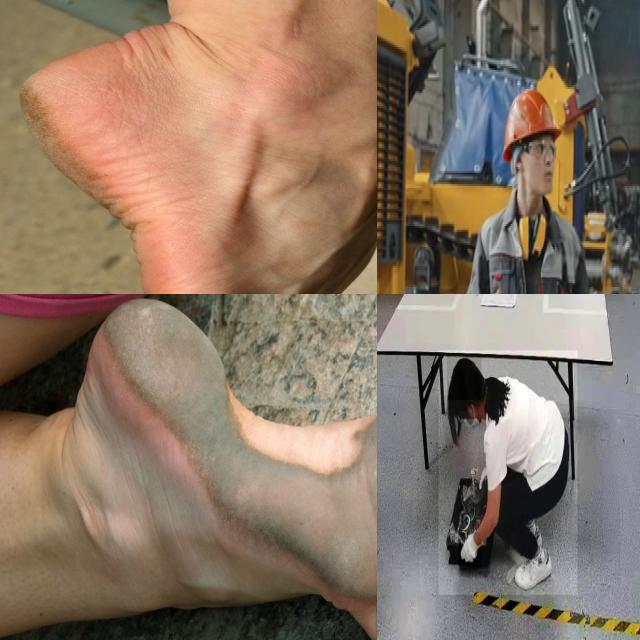Barefoots: (74, 297, 377, 640), (17, 23, 301, 294)
Ear-protection: (513, 203, 548, 264)
glasses: (519, 130, 557, 165)
hand_glove: (459, 532, 481, 570)
head_helmet: (502, 88, 563, 166)
head_nohelmet: (447, 357, 482, 401)
person: (438, 350, 578, 596), (459, 69, 602, 294)
shoes: (512, 546, 555, 592)
